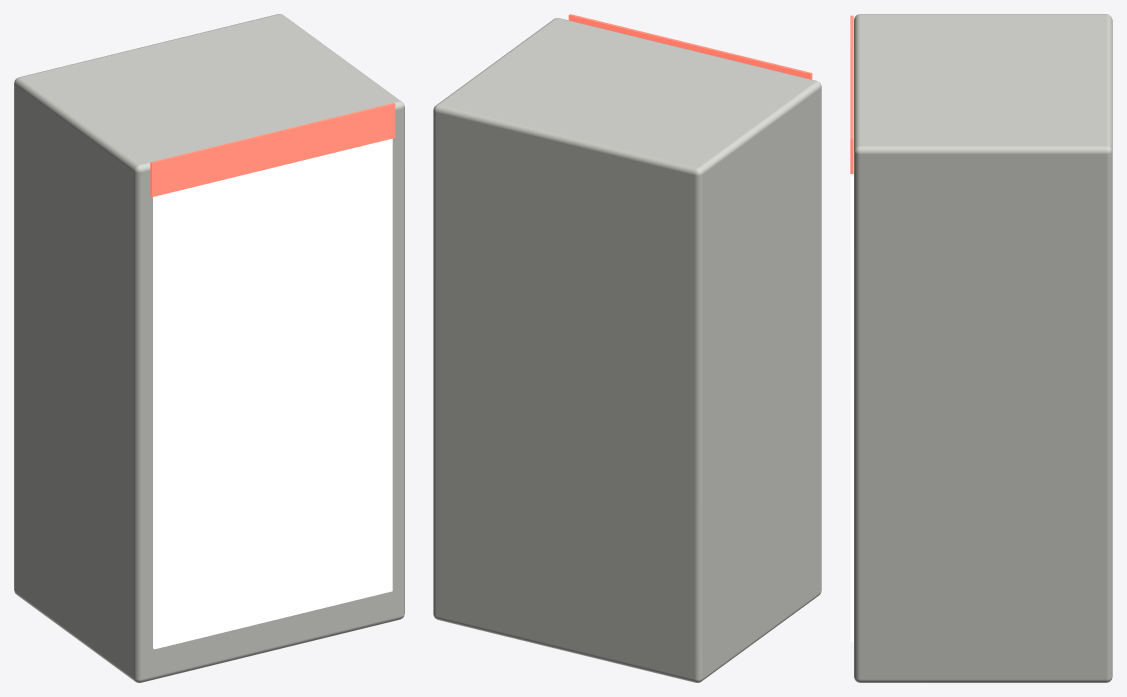
Rendered from vending_machine.glb.
The picture shows the model from 3 angles, left to right: view 1: azimuth 30°, elevation 25°; view 2: azimuth 150°, elevation 25°; view 3: azimuth 270°, elevation 25°; orthographic projection. The views are drawn at different scales.
Visible parts, largest first — view 1: vending_machine; view 2: vending_machine; view 3: vending_machine.
Part boxes in pixels (bbox=[...]): vending_machine: bbox=[14, 14, 404, 682]; vending_machine: bbox=[433, 14, 821, 682]; vending_machine: bbox=[850, 14, 1112, 682].
Size of the model in its own units: 1 by 1.84 by 0.811.
